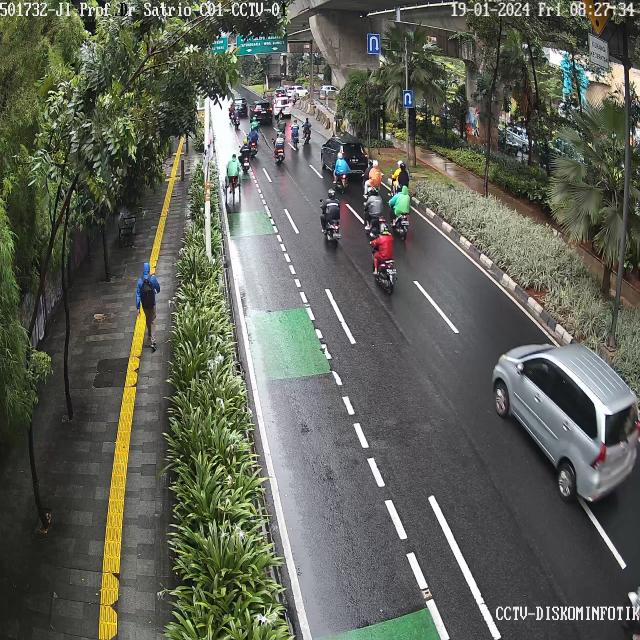Gerobak: (223, 161, 245, 204)
